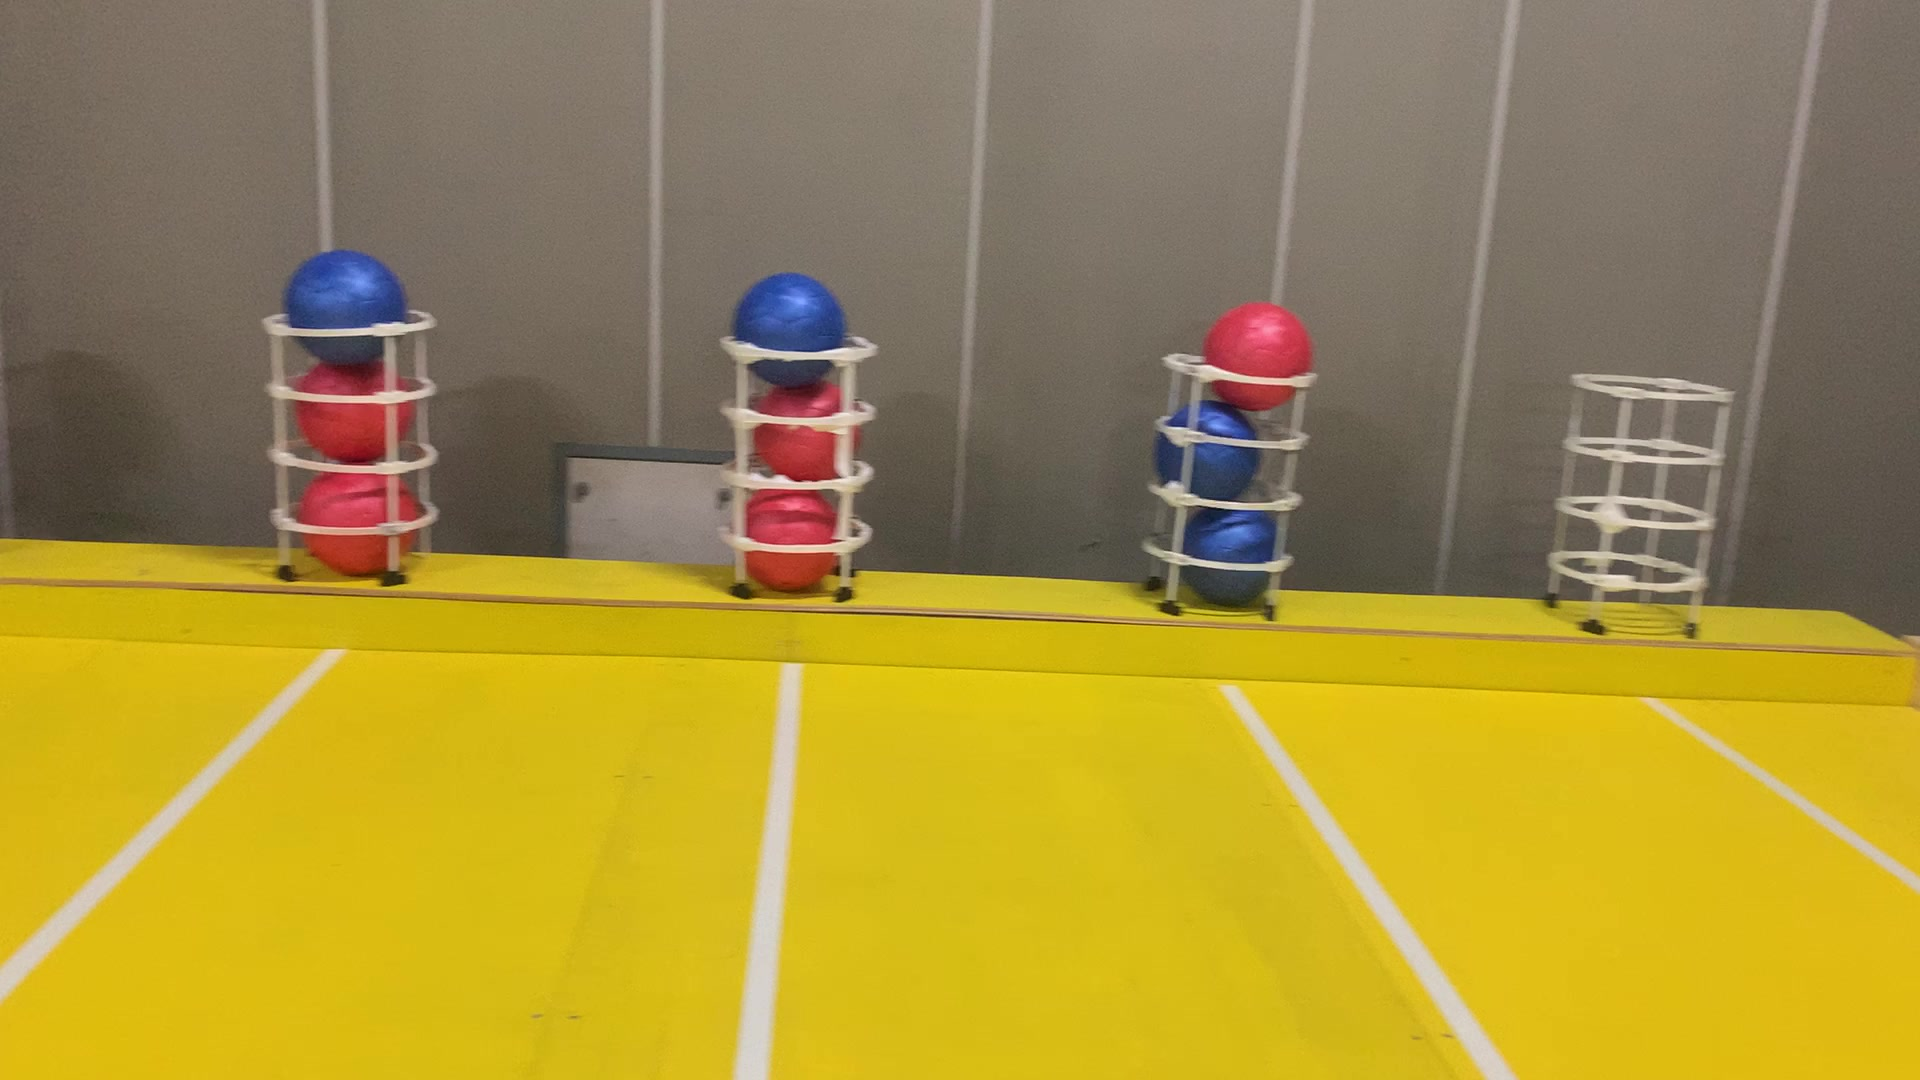blue: (724, 261, 852, 392), (281, 252, 414, 367), (1150, 393, 1266, 505), (1167, 497, 1287, 600)
red: (298, 464, 423, 580), (302, 355, 414, 471), (744, 382, 869, 484), (728, 483, 853, 584), (1201, 302, 1315, 411)
